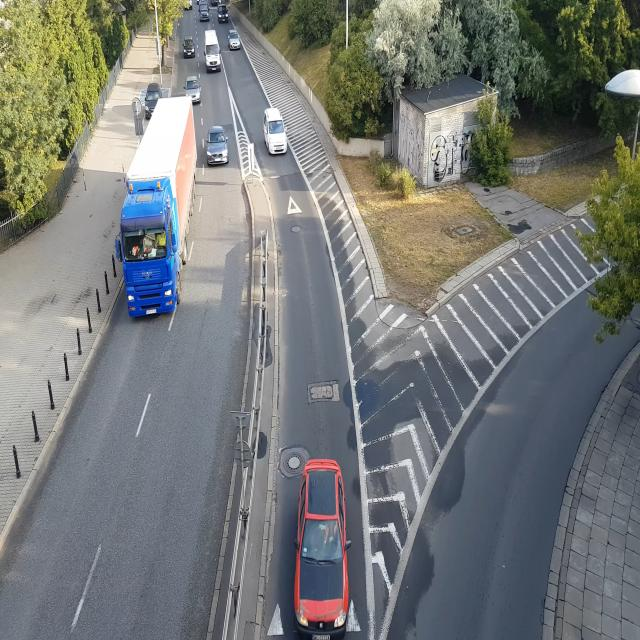car: (292, 453, 350, 640), (260, 102, 292, 163), (205, 120, 229, 170), (202, 26, 222, 78), (140, 72, 162, 117), (184, 71, 202, 109), (182, 33, 198, 59), (228, 29, 243, 54), (217, 0, 232, 21), (198, 0, 211, 24)
truck: (118, 90, 200, 332)
